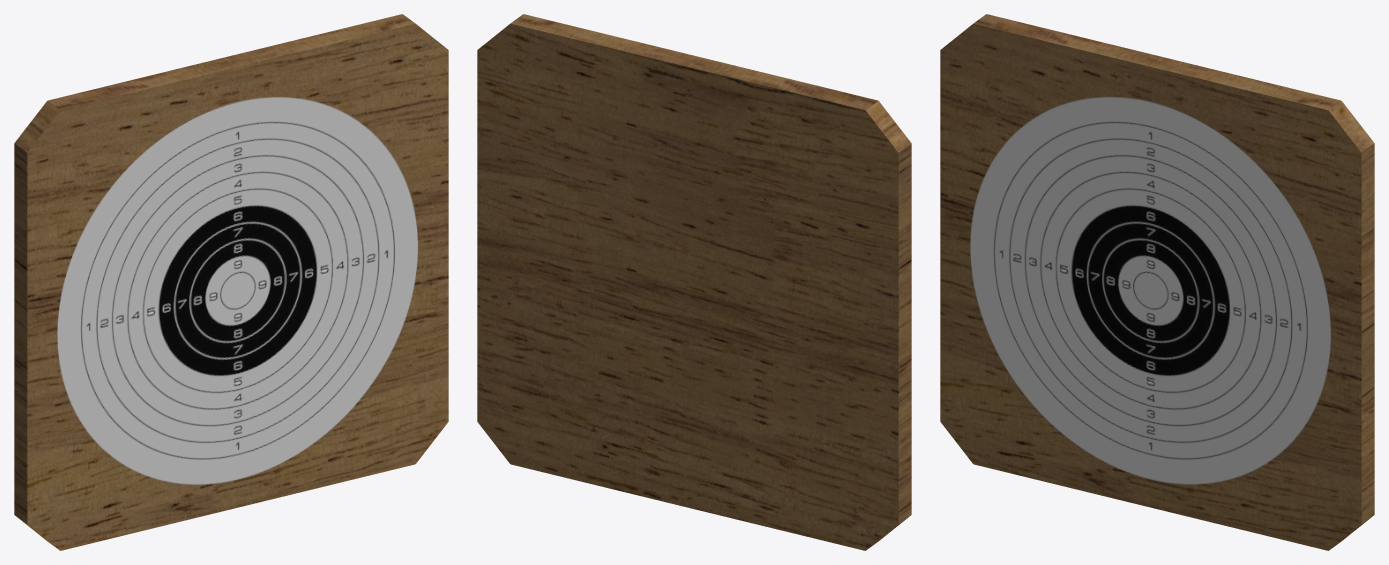
The model's file is Target No Hangers.glb.
3 renders of one model, left to right at view 1: azimuth 30°, elevation 25°; view 2: azimuth 150°, elevation 25°; view 3: azimuth 330°, elevation 25°, orthographic.
Visible parts, largest first — view 1: LowPoly.003; view 2: LowPoly.003; view 3: LowPoly.003.
Boxes of the visible parts, x1=… form: LowPoly.003: x1=14, y1=14, x2=448, y2=550; LowPoly.003: x1=477, y1=14, x2=911, y2=550; LowPoly.003: x1=940, y1=14, x2=1374, y2=550.
Bounding box in the file's own units: 162 × 162 × 8.74.
Materials: 1 (1 with a texture image).
